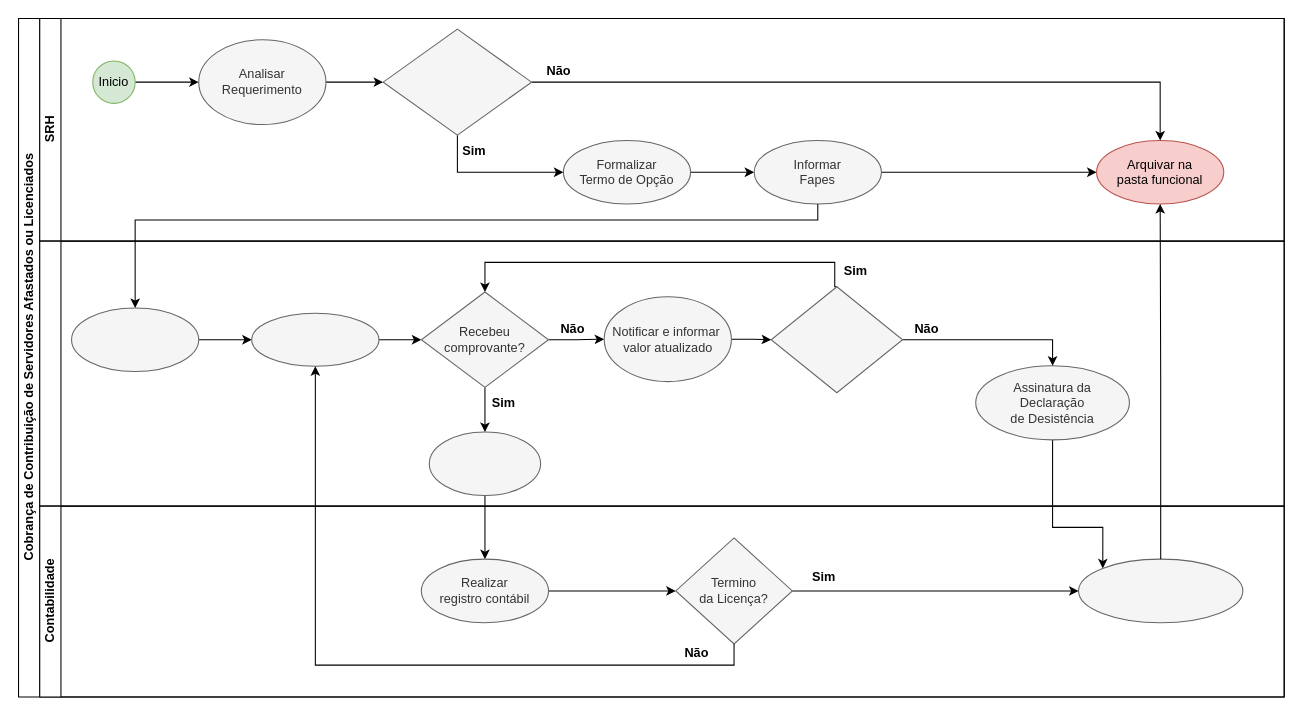
The diagram is 1303 pixels wide and 715 high, and some of its shapes have lost their labels. Here are the shapes that lost their labels. From the top down, the box of each, then its label:
(382, 28, 532, 135): Fez opção de contribuição facultativa?
(70, 307, 199, 372): Receber informação
(251, 312, 379, 366): Acompanhamento mensal
(770, 286, 903, 393): Continuará os pagamentos?
(39, 240, 1284, 506): Coordenação de Previdência
(428, 431, 541, 496): Conferir crédito bancário
(1077, 558, 1243, 623): Gerar relatório de todas as contribuições
